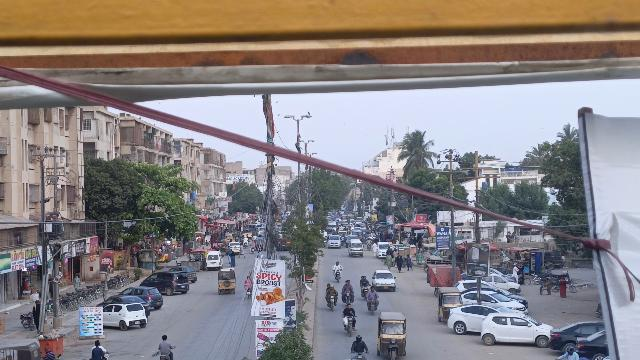Bike: (342, 314, 358, 337), (364, 297, 381, 315), (324, 293, 339, 313), (340, 289, 356, 307), (357, 284, 371, 299), (353, 352, 369, 360)
Car: (480, 310, 551, 348), (447, 302, 500, 336), (548, 320, 605, 349), (461, 289, 525, 311), (101, 302, 148, 331), (138, 271, 191, 295), (98, 295, 150, 318), (121, 286, 163, 309), (573, 332, 607, 359), (370, 268, 398, 291)
Person: (350, 334, 370, 352), (158, 334, 174, 355), (341, 301, 358, 316), (366, 285, 381, 300), (325, 281, 338, 298), (357, 274, 371, 289), (341, 277, 353, 294), (91, 341, 101, 359)
Rickshaw: (376, 311, 411, 359), (437, 285, 462, 325), (215, 267, 239, 296)
Van: (205, 251, 223, 270)
